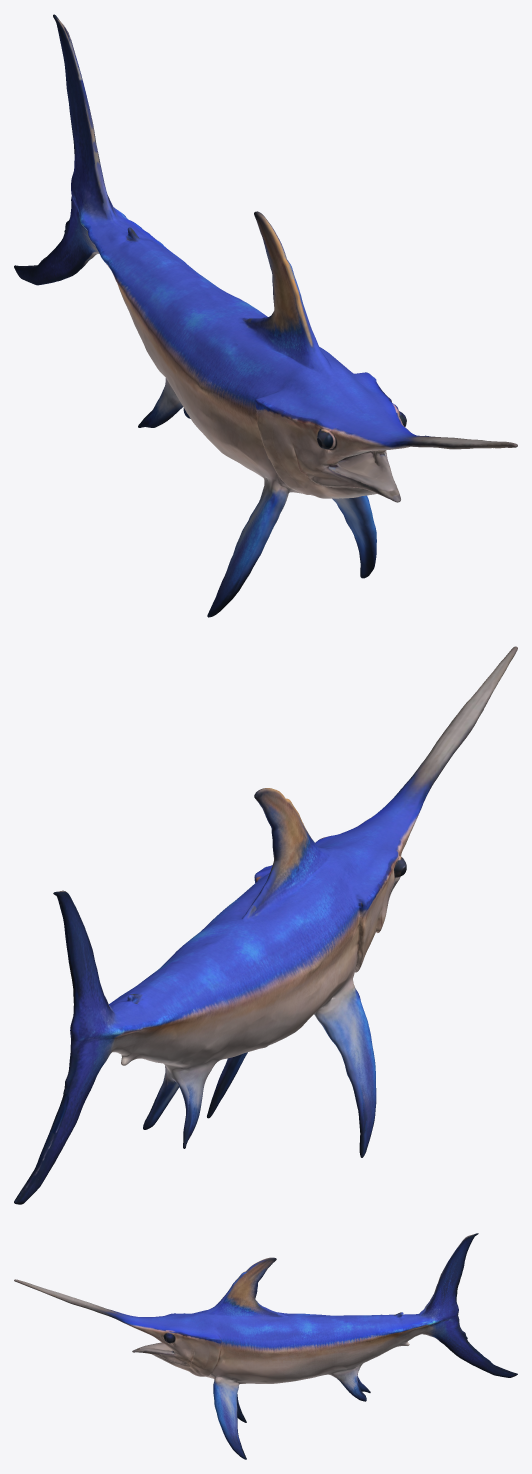
Rendered from swordfish.glb.
The picture shows the model from 3 angles, top to bottom: view 1: azimuth 30°, elevation 25°; view 2: azimuth 150°, elevation 25°; view 3: azimuth 270°, elevation 25°; orthographic projection. The views are drawn at different scales.
Bounding box in the file's own units: 0.1806 × 0.4565 × 1.
Materials: 1 (1 with a texture image).
